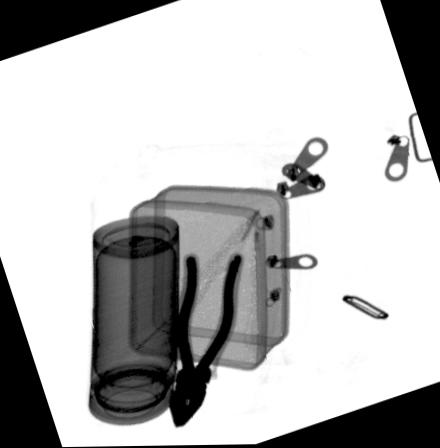Pliers: (166, 252, 244, 428)
